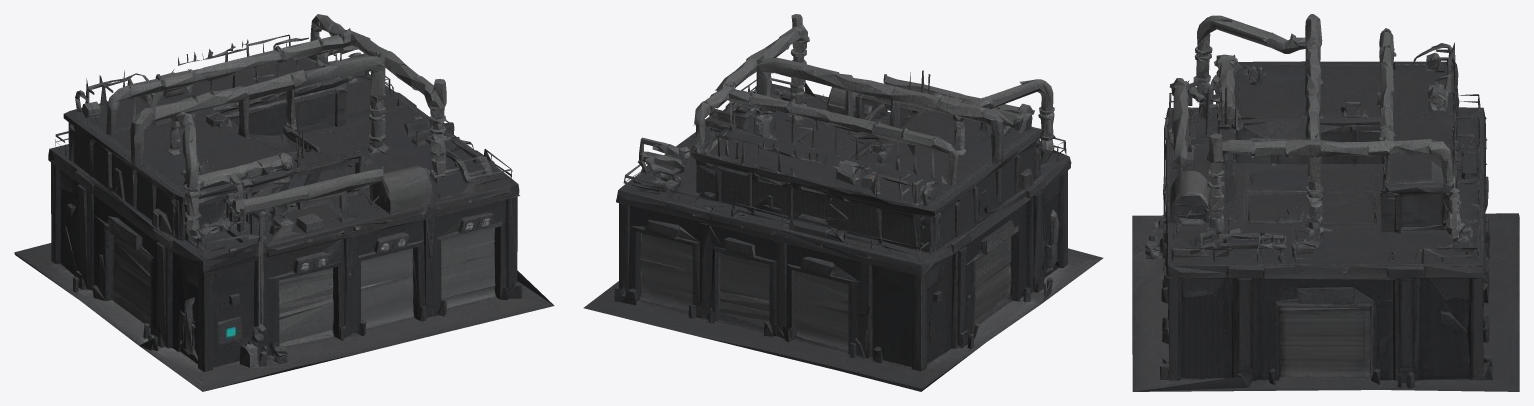
The model's file is industrial-warehouse.glb.
3 views of the same model, side by side, from view 1: azimuth 30°, elevation 25°; view 2: azimuth 150°, elevation 25°; view 3: azimuth 270°, elevation 25° (orthographic). The views are drawn at different scales.
Parts seen in each view (by area): view 1: mesh_node; view 2: mesh_node; view 3: mesh_node.
Part boxes in pixels (<box>): mesh_node: <box>14,14,554,391</box>; mesh_node: <box>583,14,1103,391</box>; mesh_node: <box>1132,14,1519,391</box>.
Bounding box in the file's own units: 1.9 × 1.11 × 1.76.
1 material, 1 textured.
